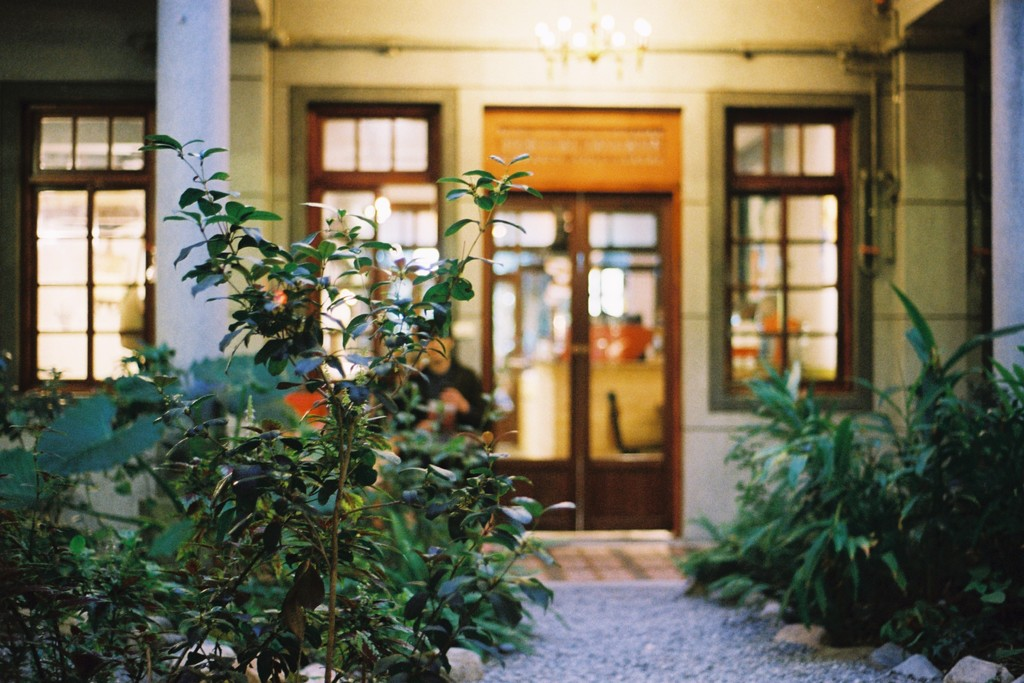Door: (484, 190, 582, 530), (580, 196, 672, 532)
